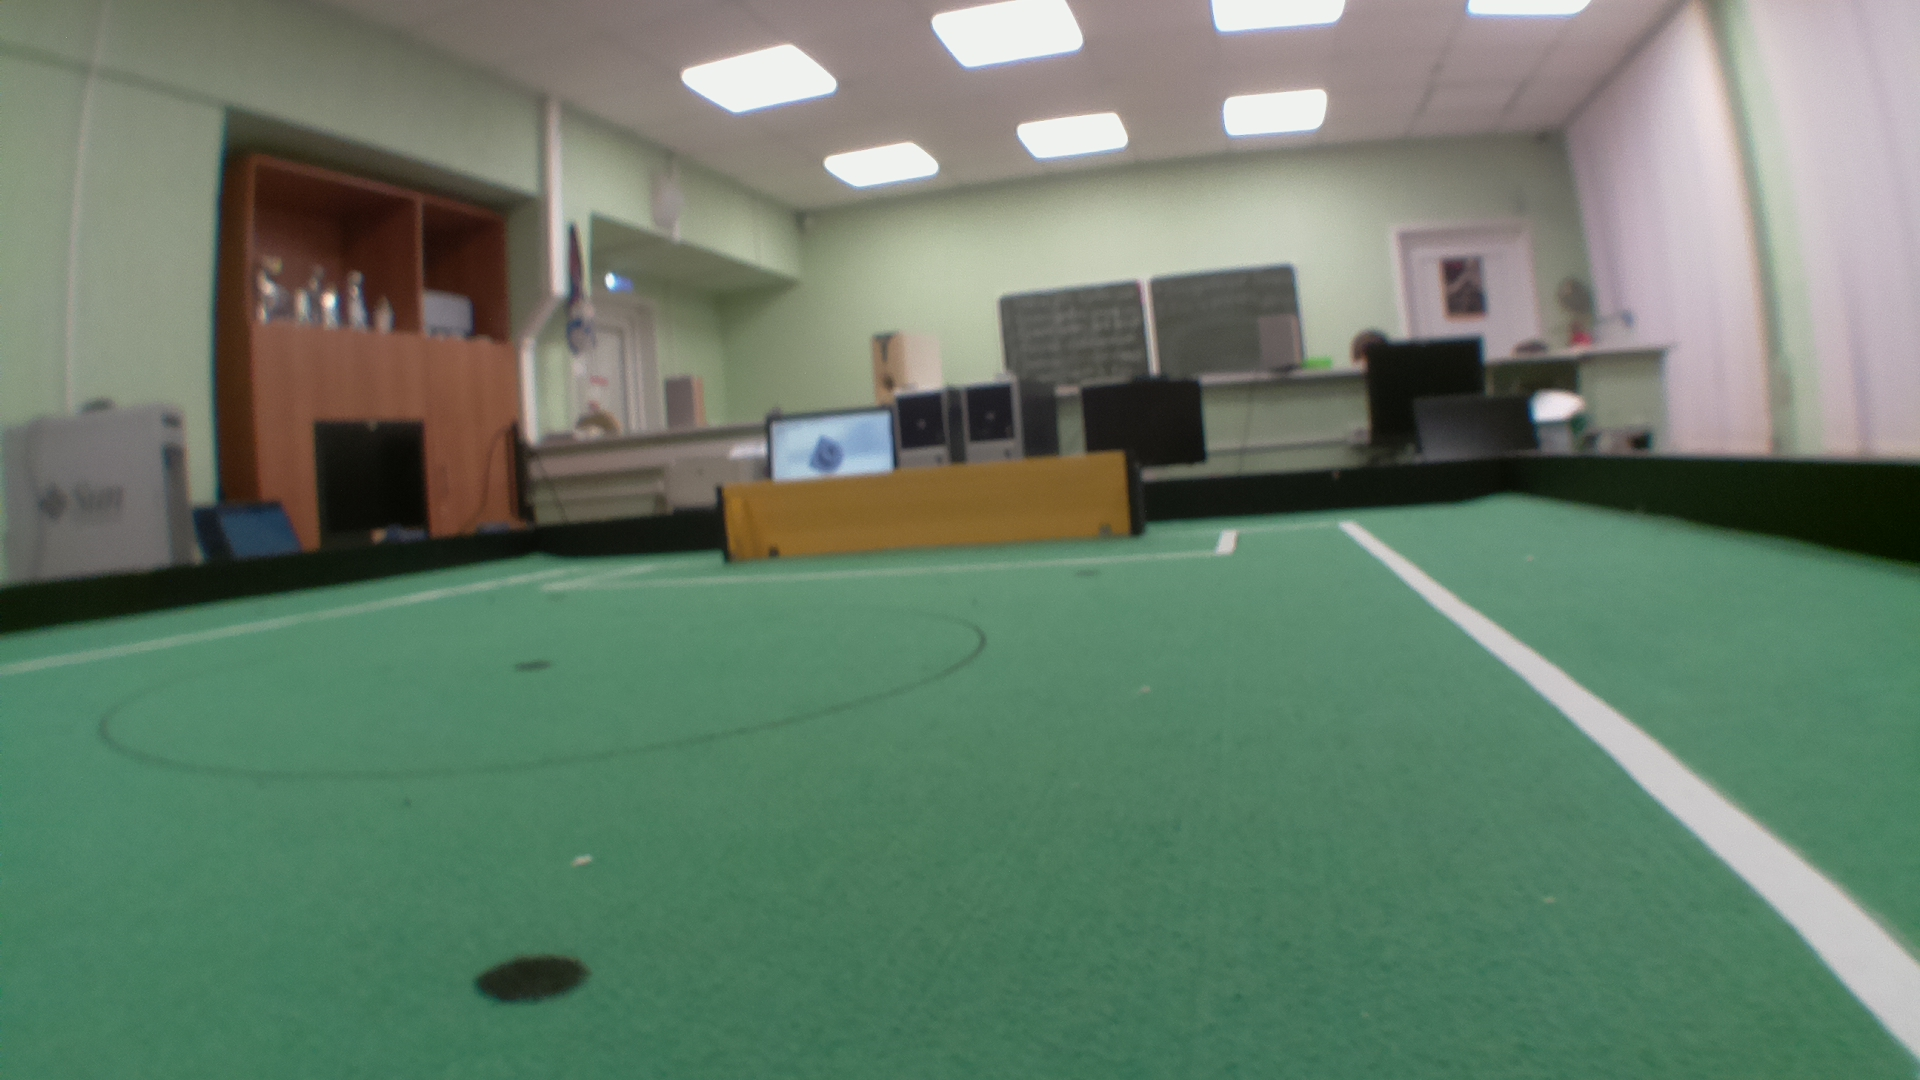YellowGoal: (724, 451, 1135, 559)
